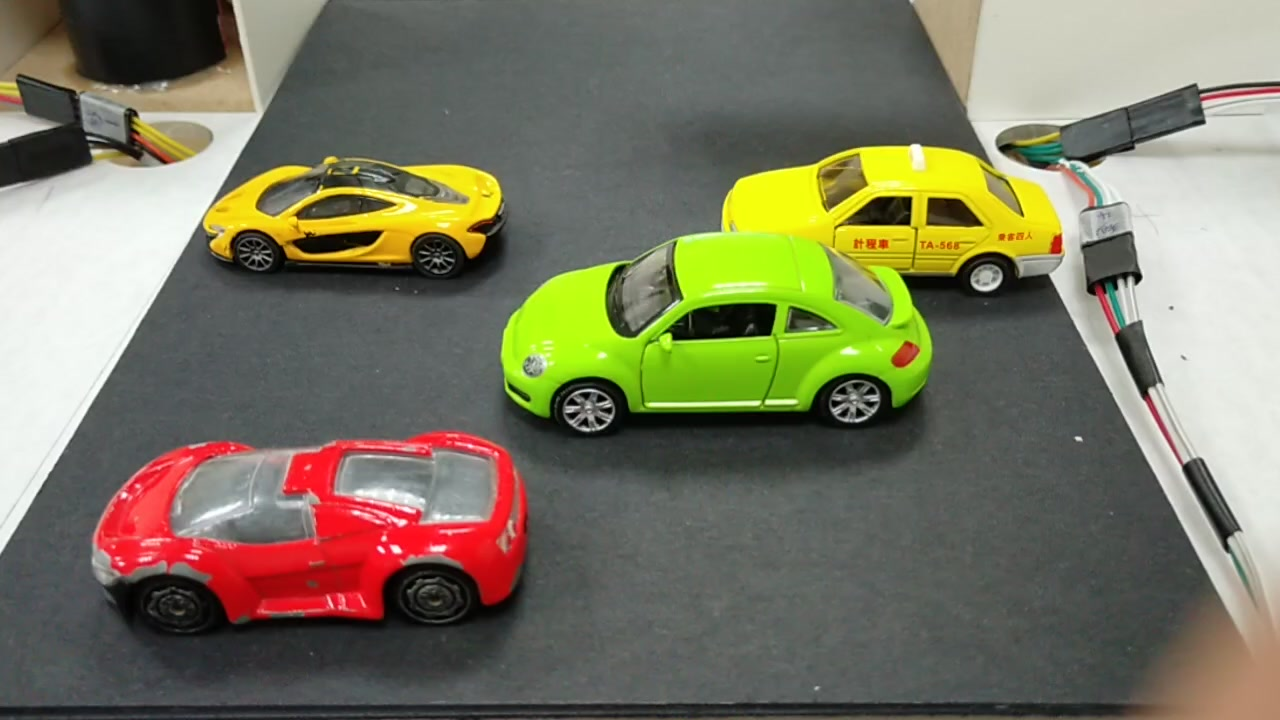car: (82, 437, 527, 636), (500, 252, 933, 423), (729, 150, 1065, 285), (210, 165, 501, 276)
